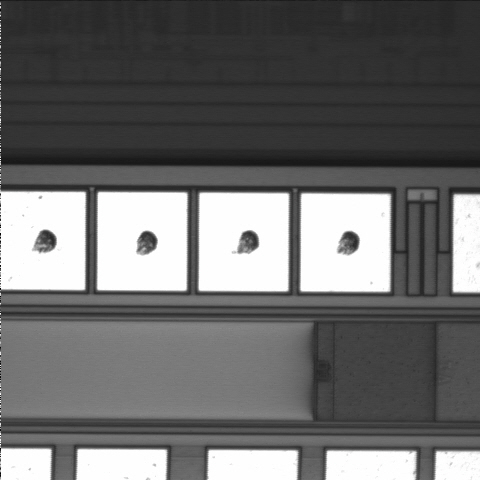pad: (97, 192, 187, 291), (199, 193, 289, 291), (300, 194, 390, 292)
